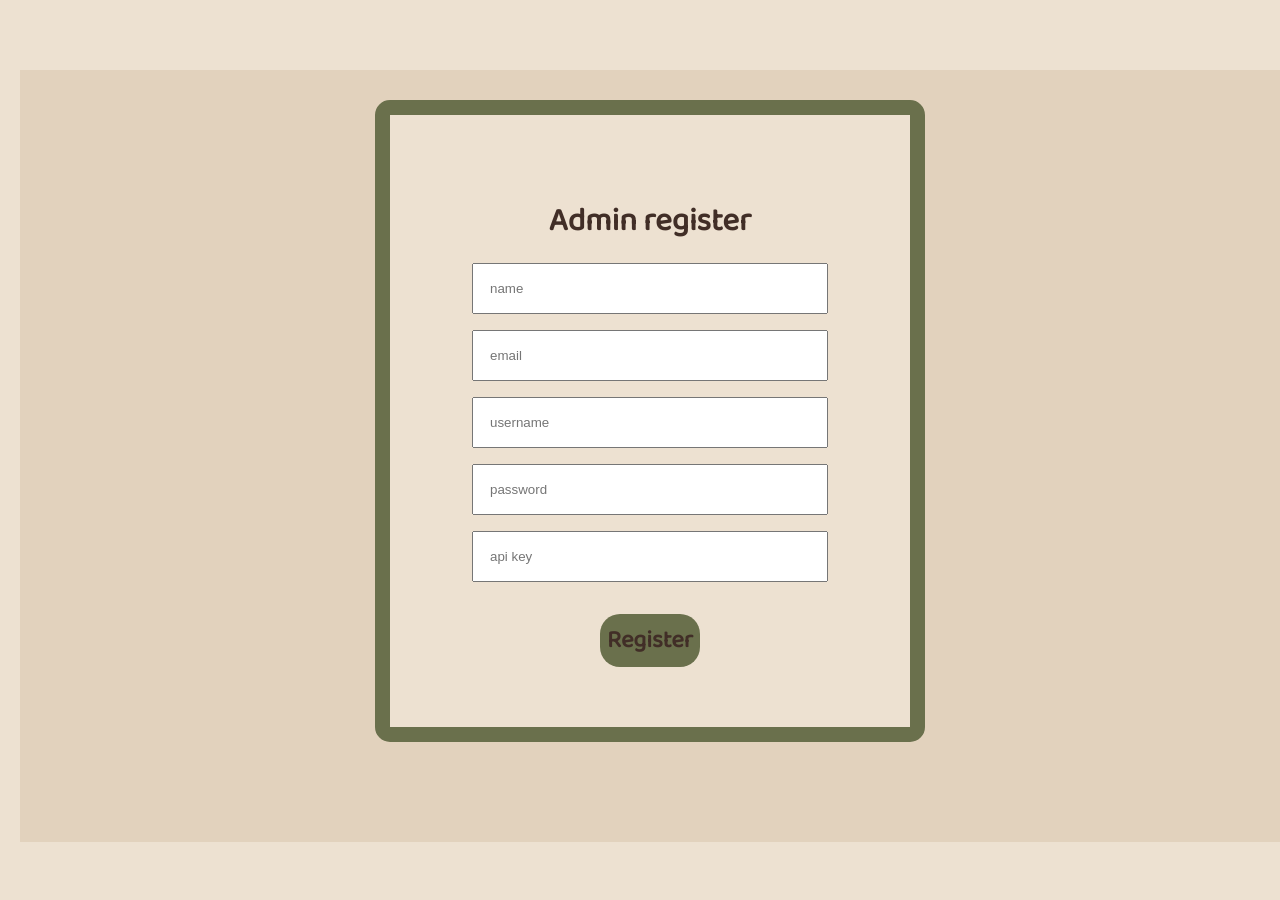
Test: AdminRegister component › should display success dialog when registering succeeds
The width and height of the screenshot is (1280, 900).
Type "testname" into the field with placeholder "name" at (650, 289), box [472,263,828,314]
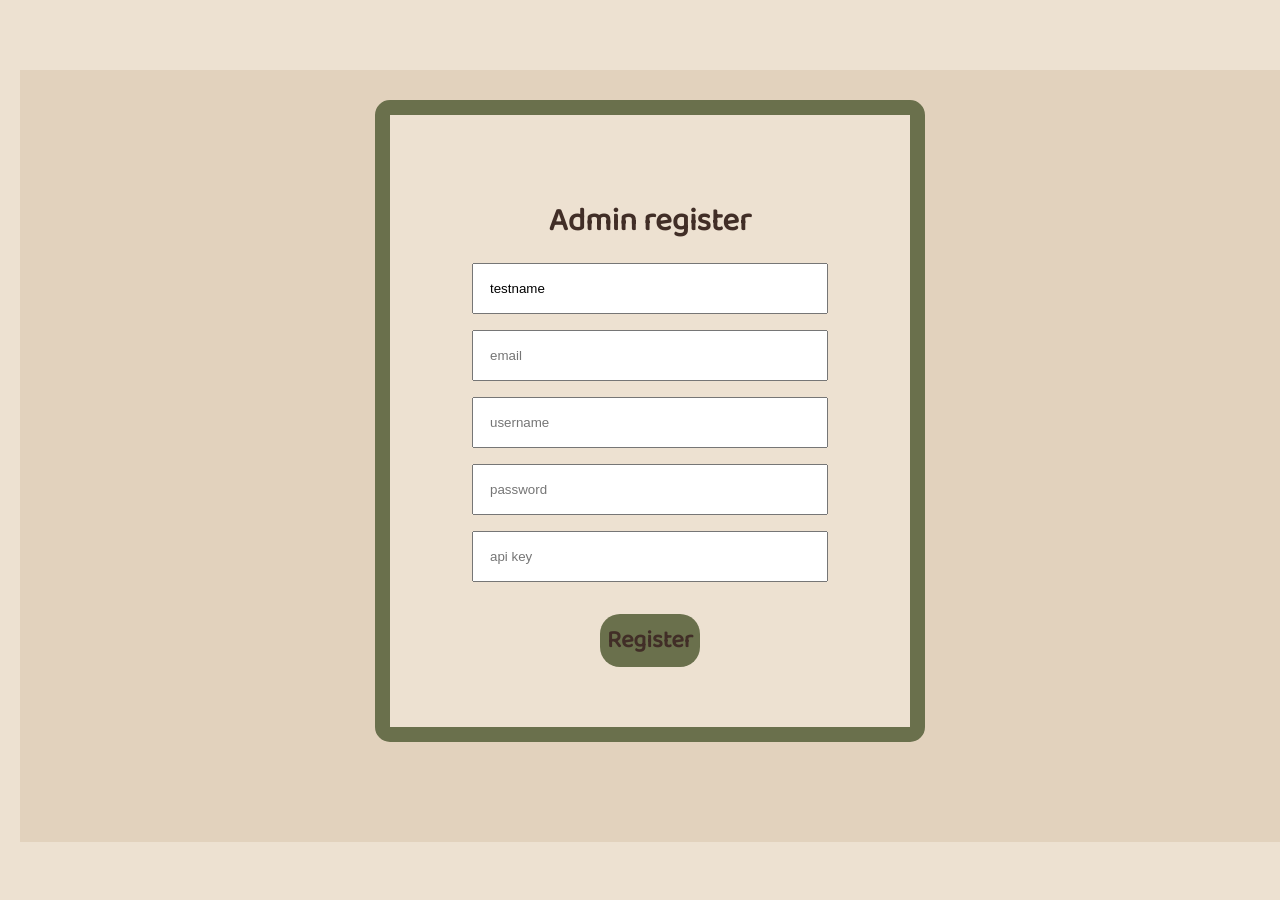
Type "testemail" into the field with placeholder "email" at (650, 356), box [472,330,828,381]
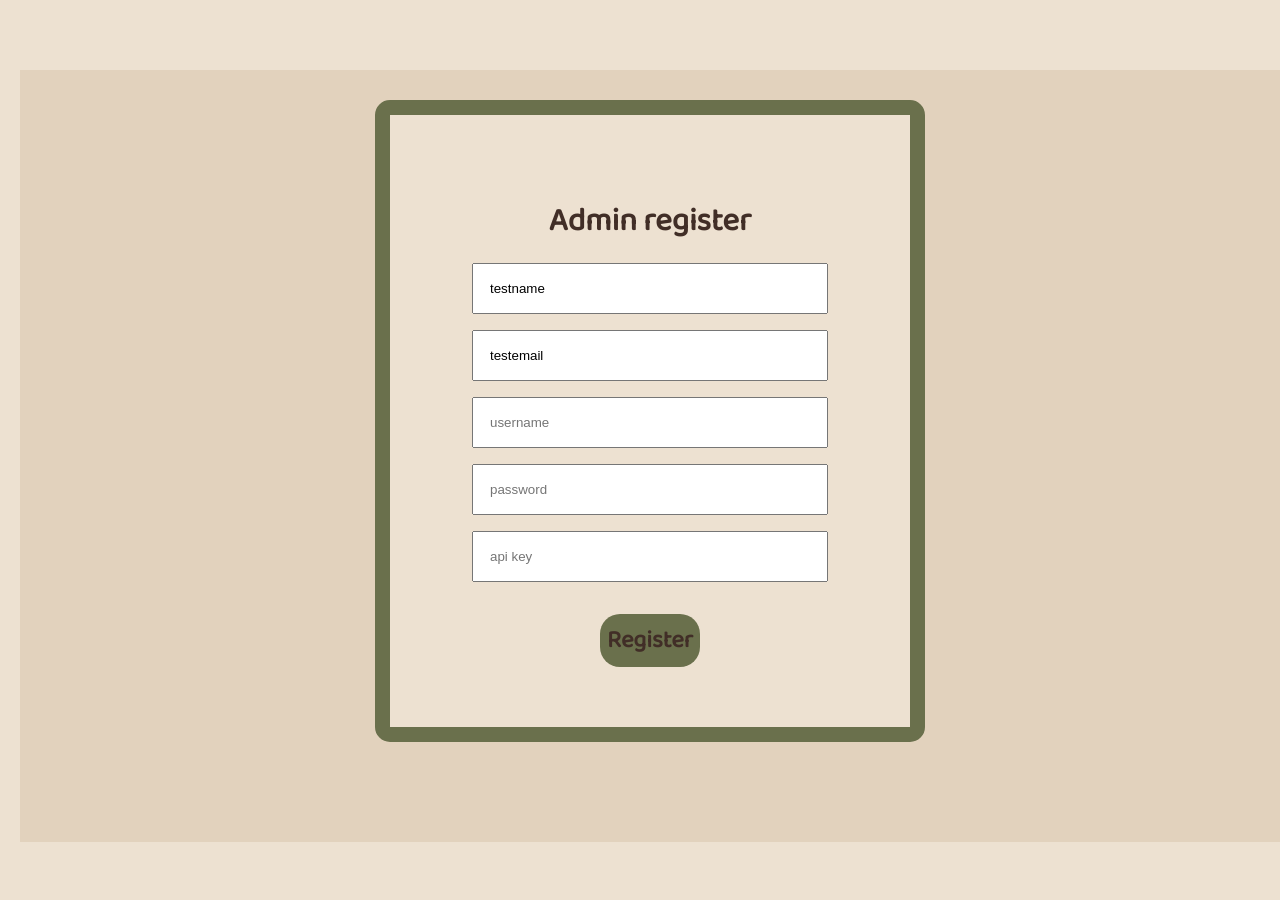
Type "testuser" into the field with placeholder "username" at (650, 423), box [472,397,828,448]
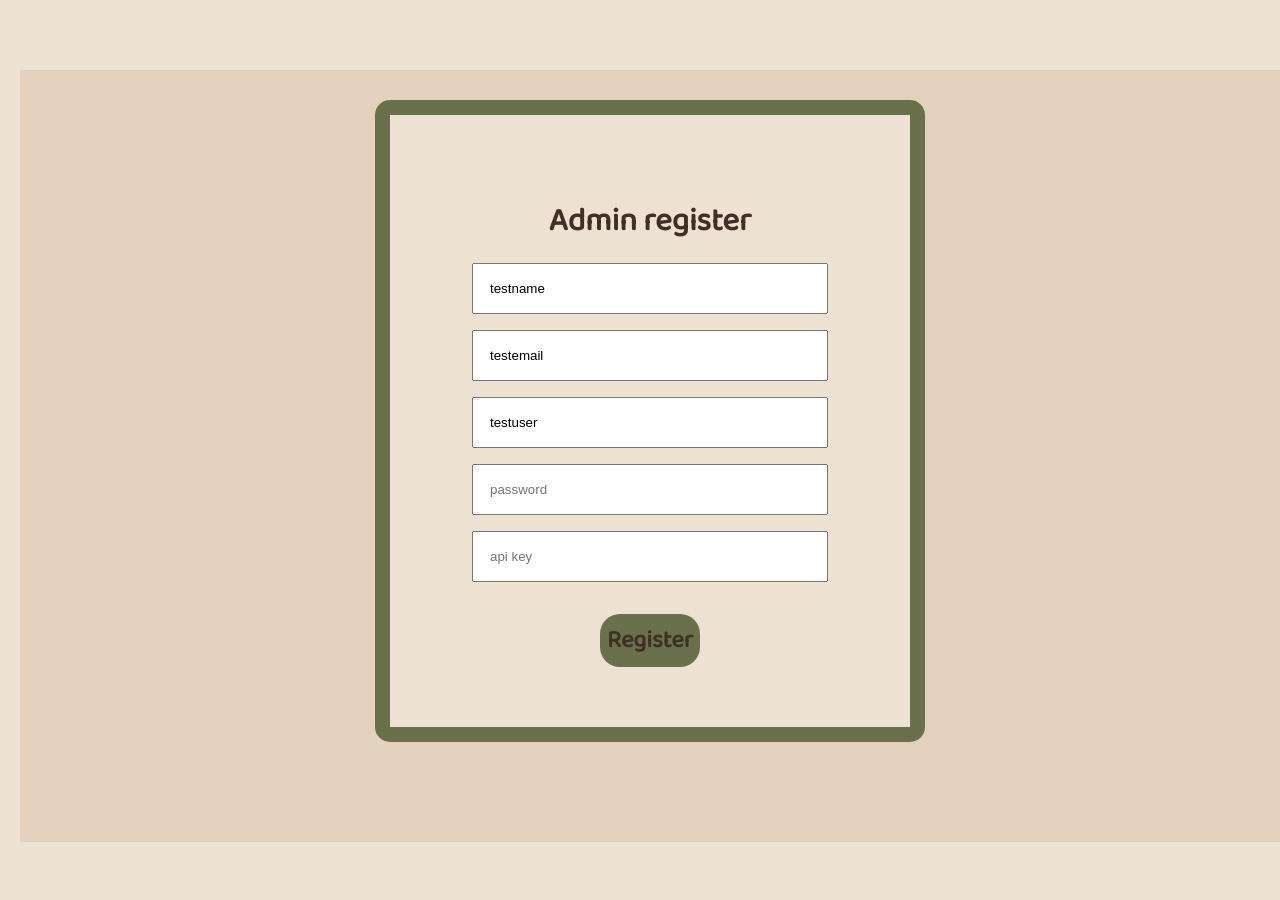
Type "testpassword" into the password field with placeholder "password" at (650, 490), box [472,464,828,515]
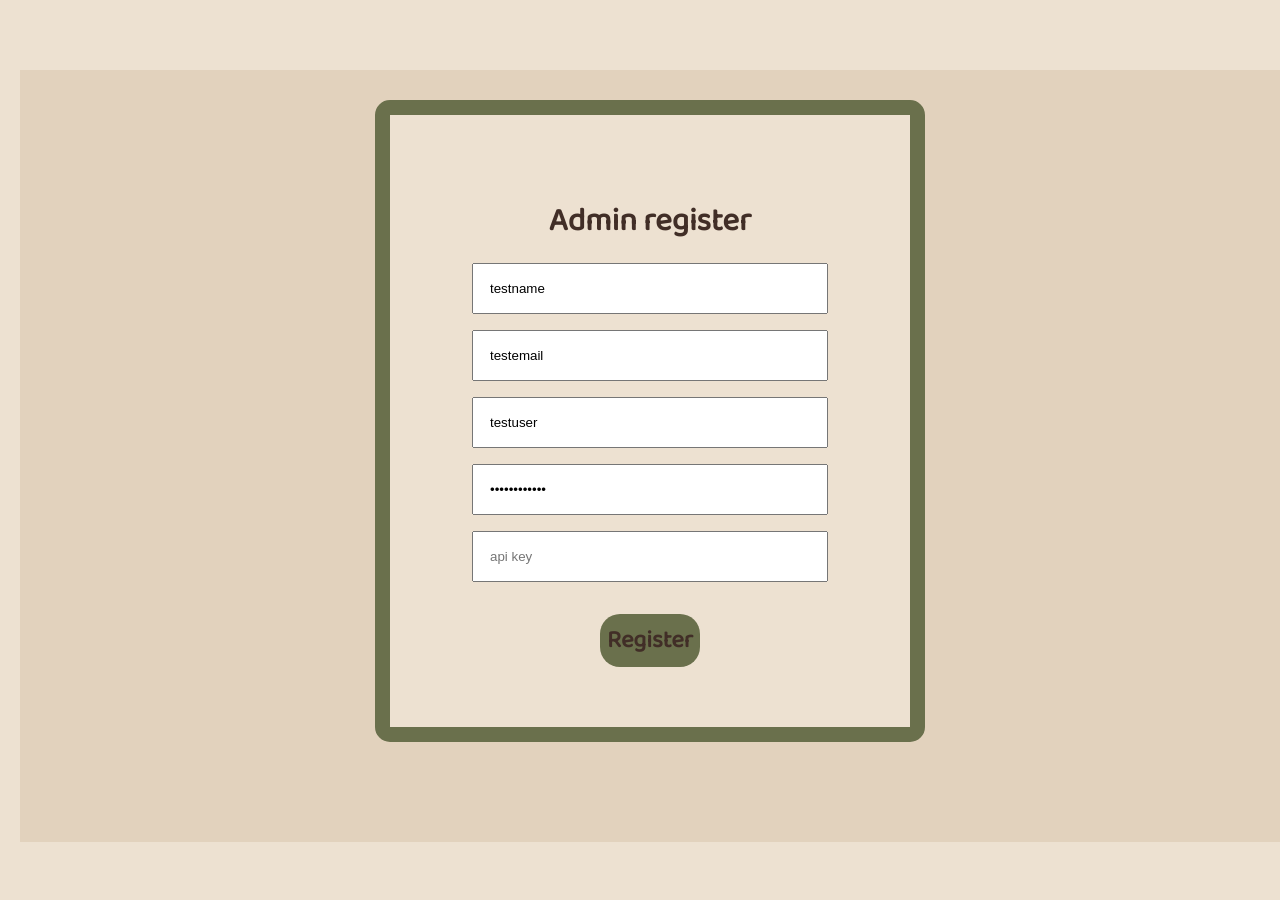
Type "api_key" into the field with placeholder "api key" at (650, 557), box [472,531,828,582]
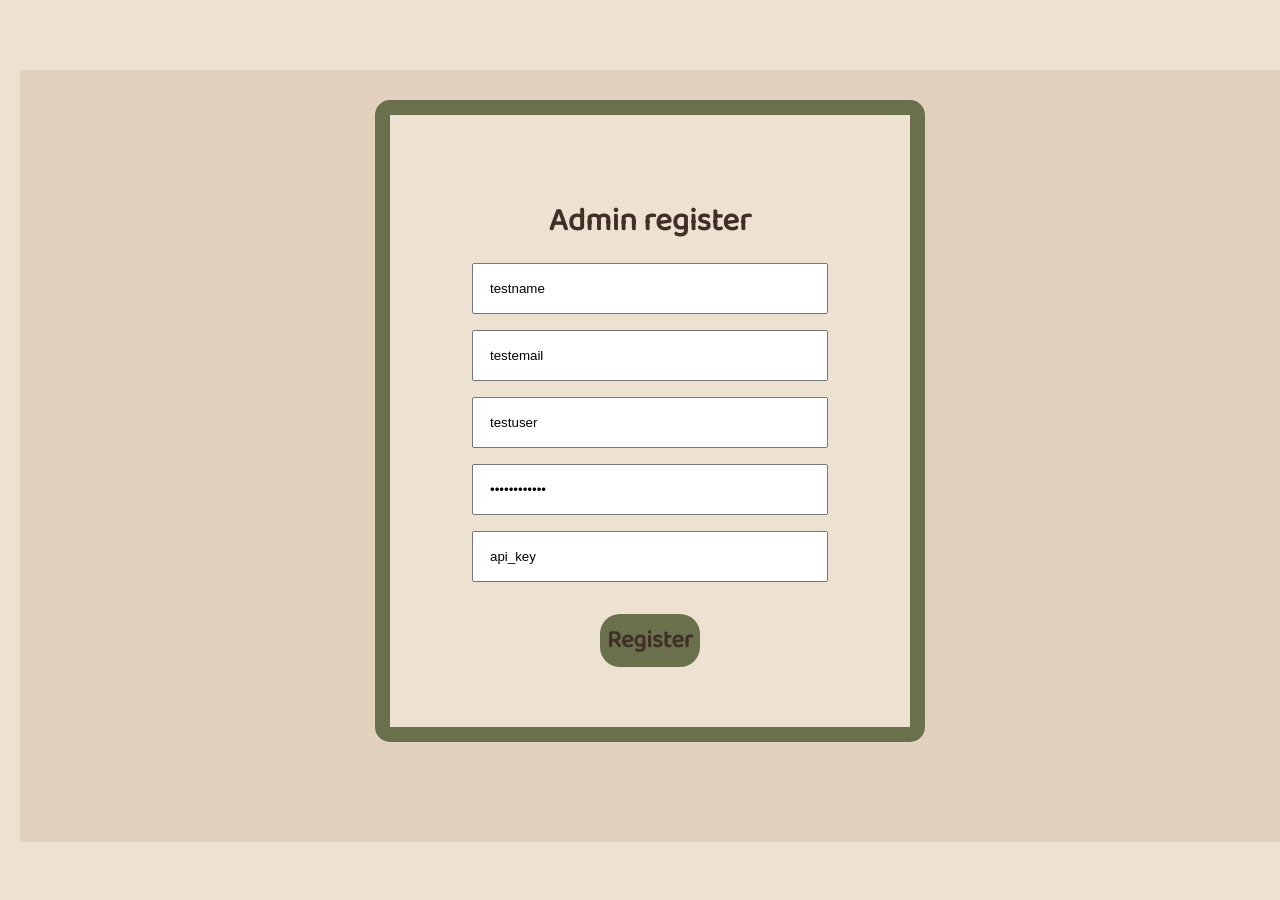
Submit the form from the button with test id "register-button", box [600,614,700,667]
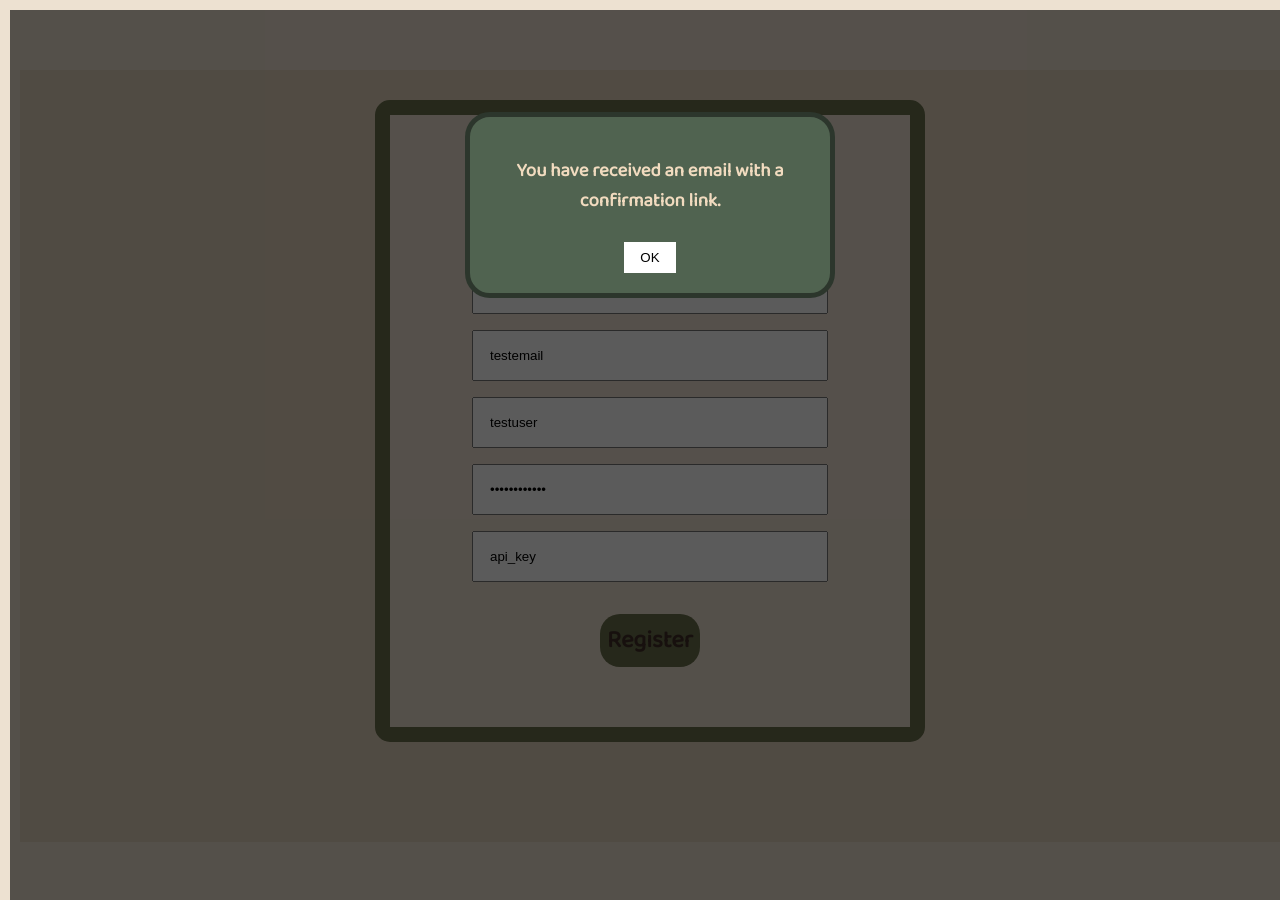
Expected: the heading "You have received an email with a confirmation link." is shown, [516,156,784,216]
